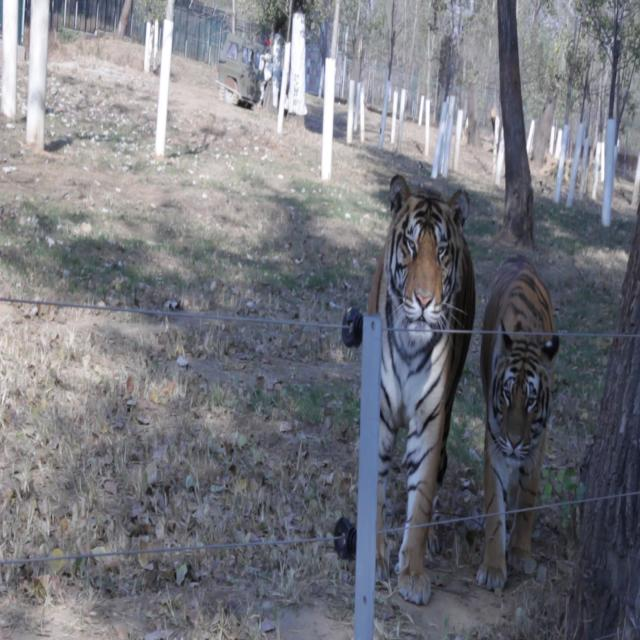Tiger: (360, 168, 476, 611), (478, 248, 562, 593)
